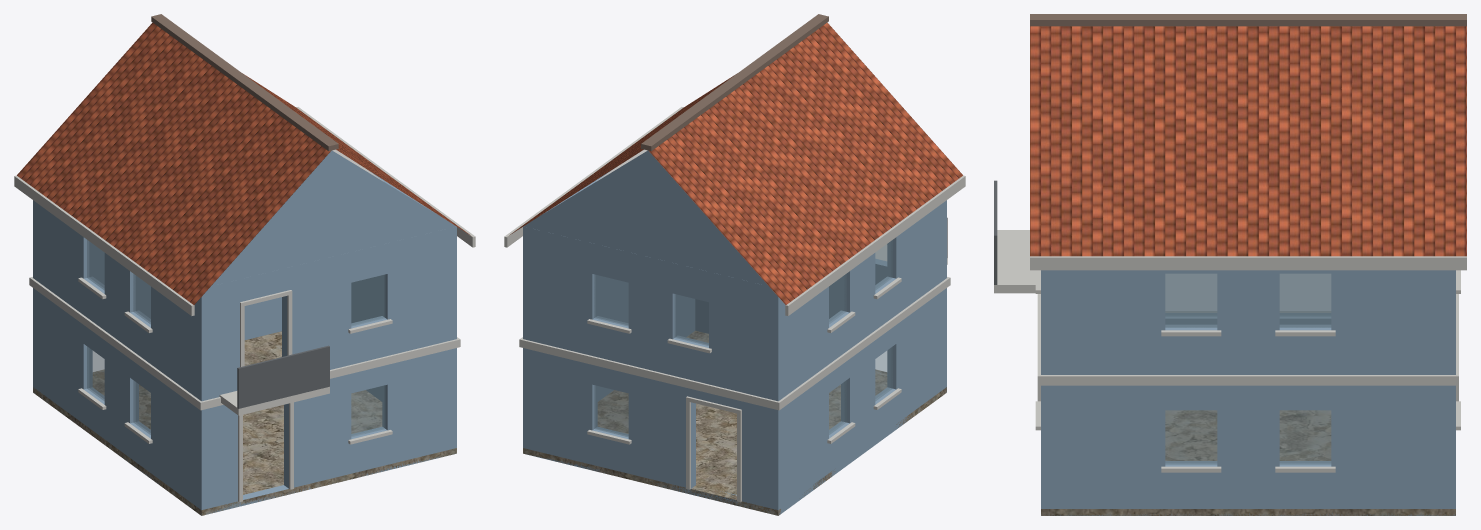
File: cove-house-blue.coast-v1.lod1.glb
3 renders of one model, left to right at view 1: azimuth 30°, elevation 25°; view 2: azimuth 150°, elevation 25°; view 3: azimuth 270°, elevation 25°, orthographic. The views are drawn at different scales.
Visible parts, largest first — view 1: cove-house-blue; view 2: cove-house-blue; view 3: cove-house-blue.
Part boxes in pixels (x1,y1,x2,y2): cove-house-blue: [14, 14, 475, 515]; cove-house-blue: [504, 14, 965, 515]; cove-house-blue: [994, 14, 1466, 515].
Size of the model in its own units: 7.78 by 8.98 by 9.11.
4 materials, 2 textured.
